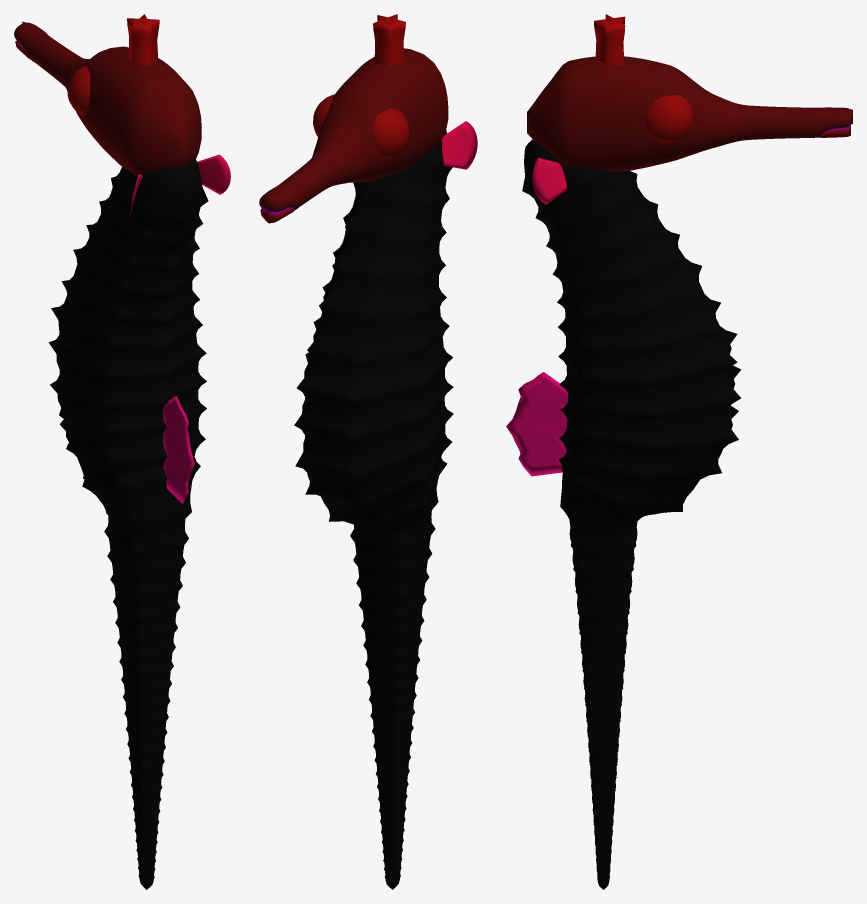
Rendered from seahorse_common.glb.
The picture shows the model from 3 angles, left to right: view 1: azimuth 30°, elevation 25°; view 2: azimuth 150°, elevation 25°; view 3: azimuth 270°, elevation 25°; orthographic projection.
Visible parts, largest first — view 1: seahorse_common; view 2: seahorse_common; view 3: seahorse_common.
Boxes of the visible parts, bbox=[...] form: seahorse_common: bbox=[14, 14, 230, 889]; seahorse_common: bbox=[259, 14, 477, 889]; seahorse_common: bbox=[506, 14, 852, 889].
Size of the model in its own units: 0.0222 by 0.15 by 0.0542.
